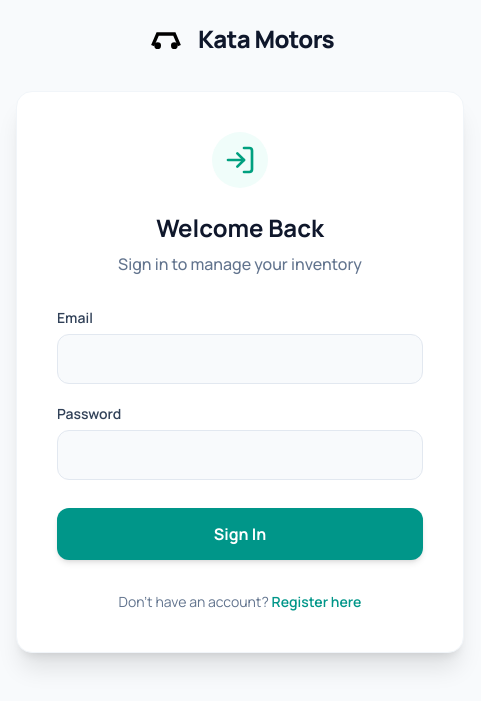
Login › shows an error message and does not throw when login fails
Type "a@b.com" into the field labelled "Email" at point(240, 359), box [57,334,423,384]
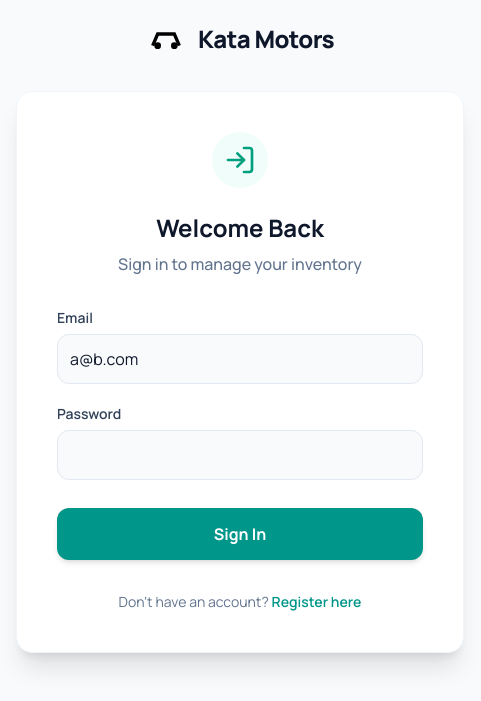
Type "wrong" into the password field labelled "Password" at point(240, 455), box [57,430,423,480]
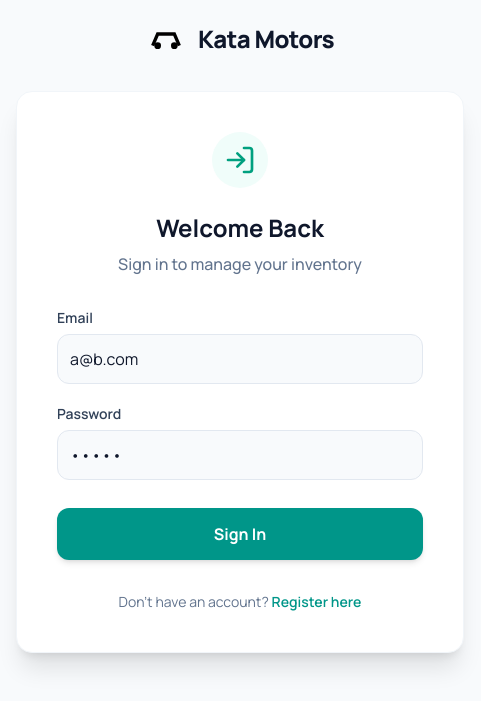
Click the button "Sign In" at point(240, 534), box [57,508,423,560]
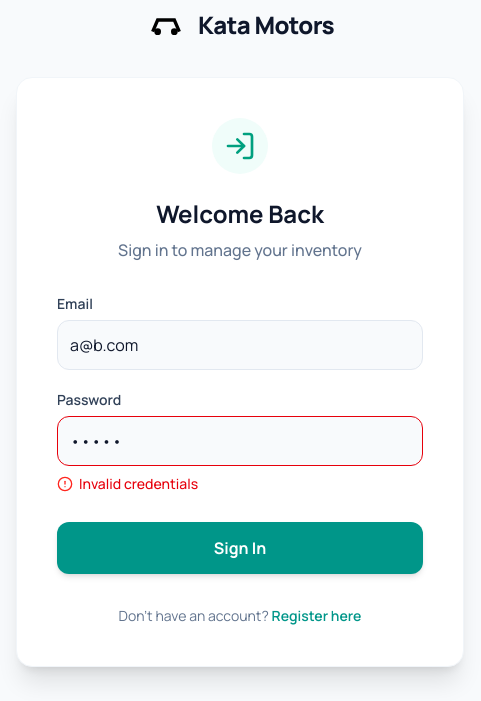
Expected: the message reads "Invalid credentials", [79,474,198,493]
